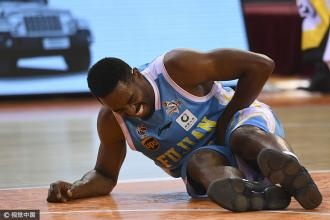falling: (60, 27, 330, 216)
